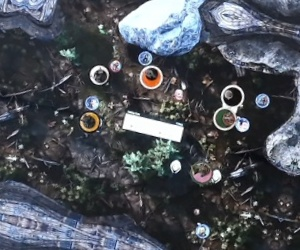black: (218, 83, 246, 110)
green: (210, 104, 237, 132)
orange: (135, 63, 163, 90)
pink_green: (186, 160, 214, 188)
white: (82, 60, 110, 88)
yellow_night_blue: (78, 109, 106, 136)
